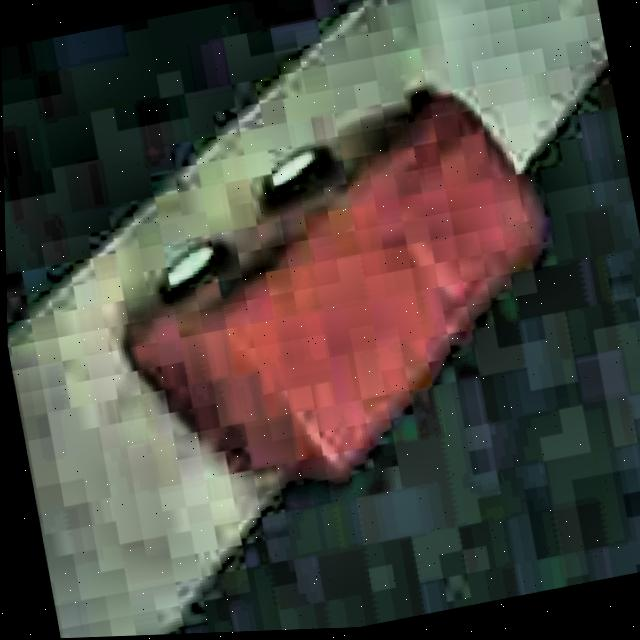bus: (84, 63, 587, 515)
